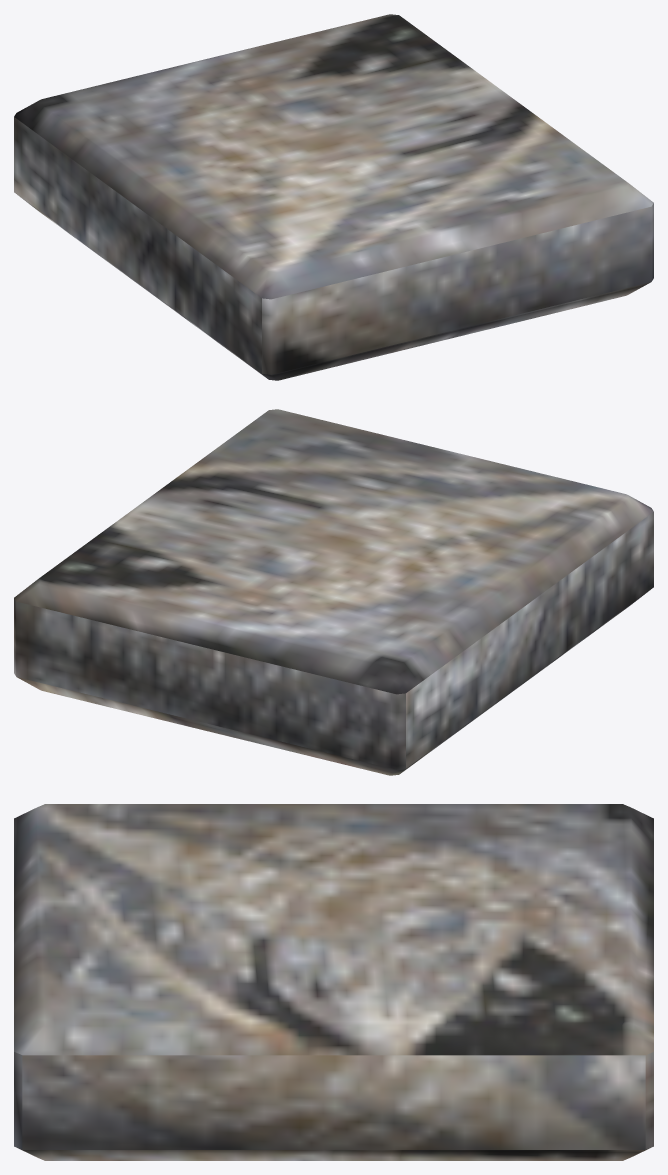
The model's file is cartel_coke_3.FBX.
3 renders of one model, top to bottom at view 1: azimuth 30°, elevation 25°; view 2: azimuth 150°, elevation 25°; view 3: azimuth 270°, elevation 25°, orthographic. The views are drawn at different scales.
Parts seen in each view (by area): view 1: cartel_coke_3; view 2: cartel_coke_3; view 3: cartel_coke_3.
Part boxes in pixels (bbox=[...]): cartel_coke_3: bbox=[14, 14, 653, 380]; cartel_coke_3: bbox=[14, 409, 653, 775]; cartel_coke_3: bbox=[14, 804, 653, 1160].
Bounding box in the file's own units: 36.15 × 9.54 × 40.71.
